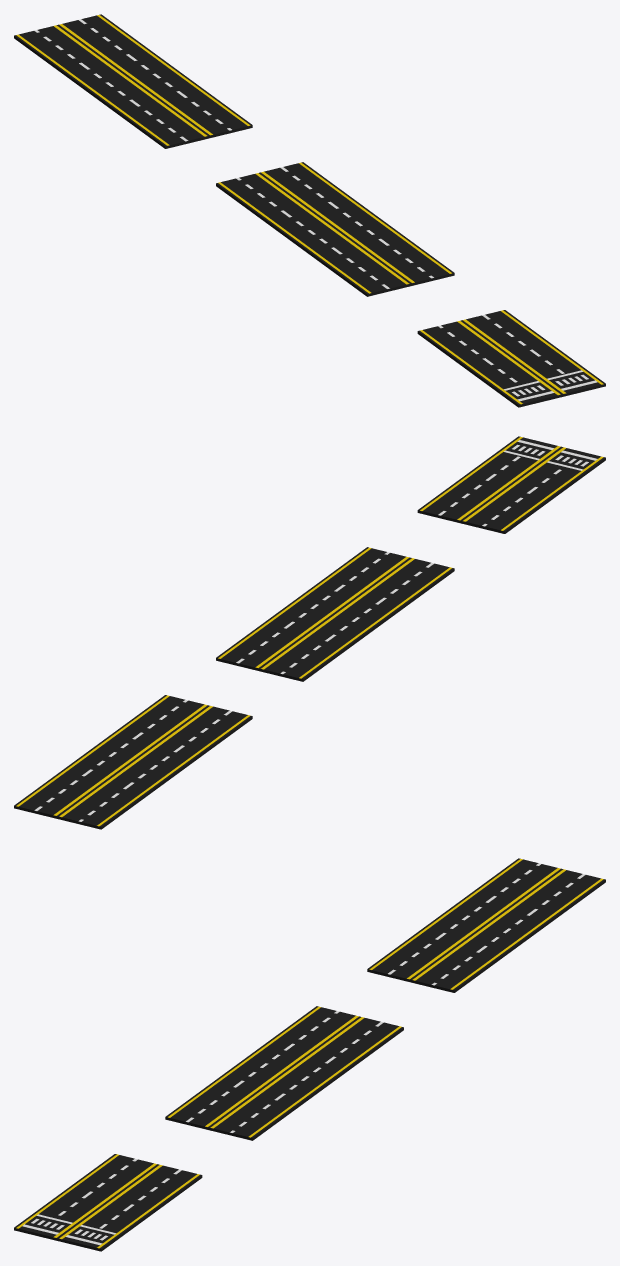
The model's file is Asset_JALAN_Upick.fbx.
3 views of the same model, one above another, from view 1: azimuth 30°, elevation 25°; view 2: azimuth 150°, elevation 25°; view 3: azimuth 330°, elevation 25° (orthographic).
Visible parts, largest first — view 1: MainRoad, Spawn.R, Spawn.L; view 2: MainRoad, Spawn.R, Spawn.L; view 3: MainRoad, Spawn.R, Spawn.L.
Boxes of the visible parts, bbox=[...] form: MainRoad: bbox=[216, 162, 454, 296]; Spawn.R: bbox=[14, 14, 252, 148]; Spawn.L: bbox=[417, 310, 605, 407]; MainRoad: bbox=[216, 547, 454, 681]; Spawn.R: bbox=[14, 695, 252, 829]; Spawn.L: bbox=[417, 436, 605, 533]; MainRoad: bbox=[165, 1006, 403, 1140]; Spawn.R: bbox=[367, 858, 605, 992]; Spawn.L: bbox=[14, 1154, 202, 1251].
Bounding box in the file's own units: 200 × 6 × 2000.
